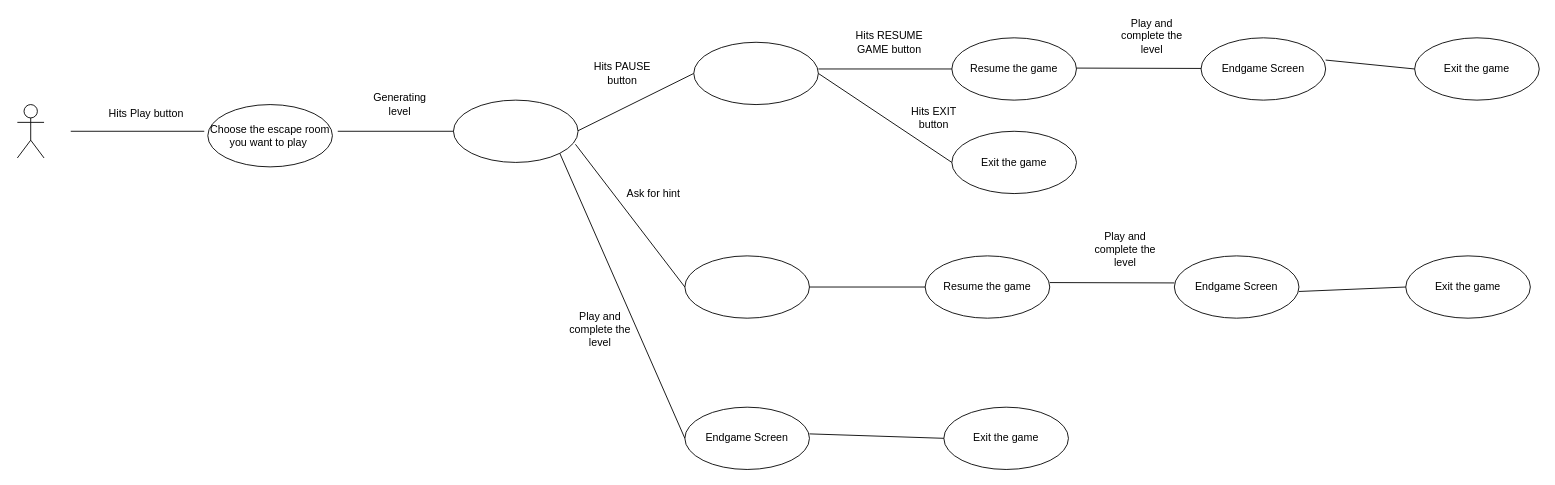
Some shapes in this 1555 by 485 pixel diagram are drawn without their labels. Here are the shapes that lost their labels. From the top down, the centre of each, then its label:
point 755,73: Pause the game
point 30,131: Player
point 515,130: Play Game
point 746,286: Display hint
